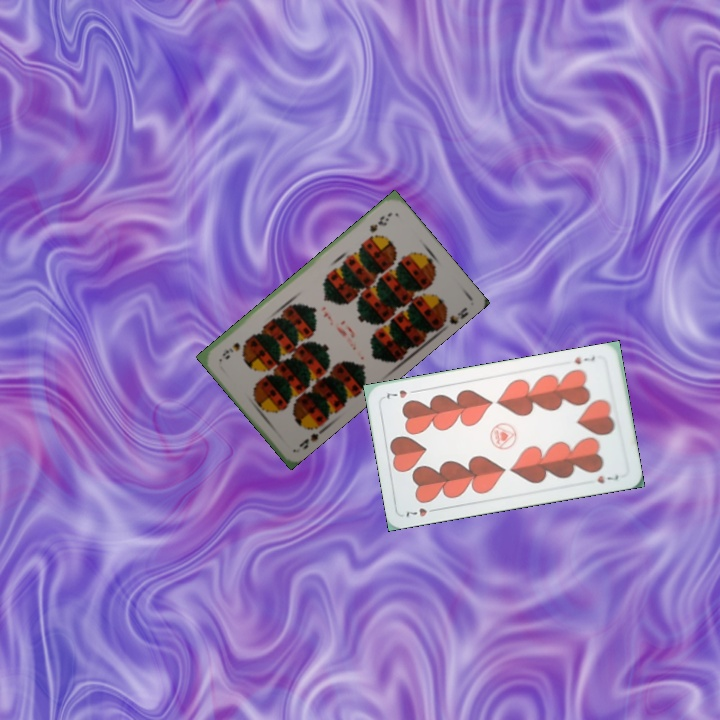H7: (400, 504, 441, 519), (571, 351, 598, 367)
S9: (295, 418, 328, 452), (365, 211, 392, 235)
